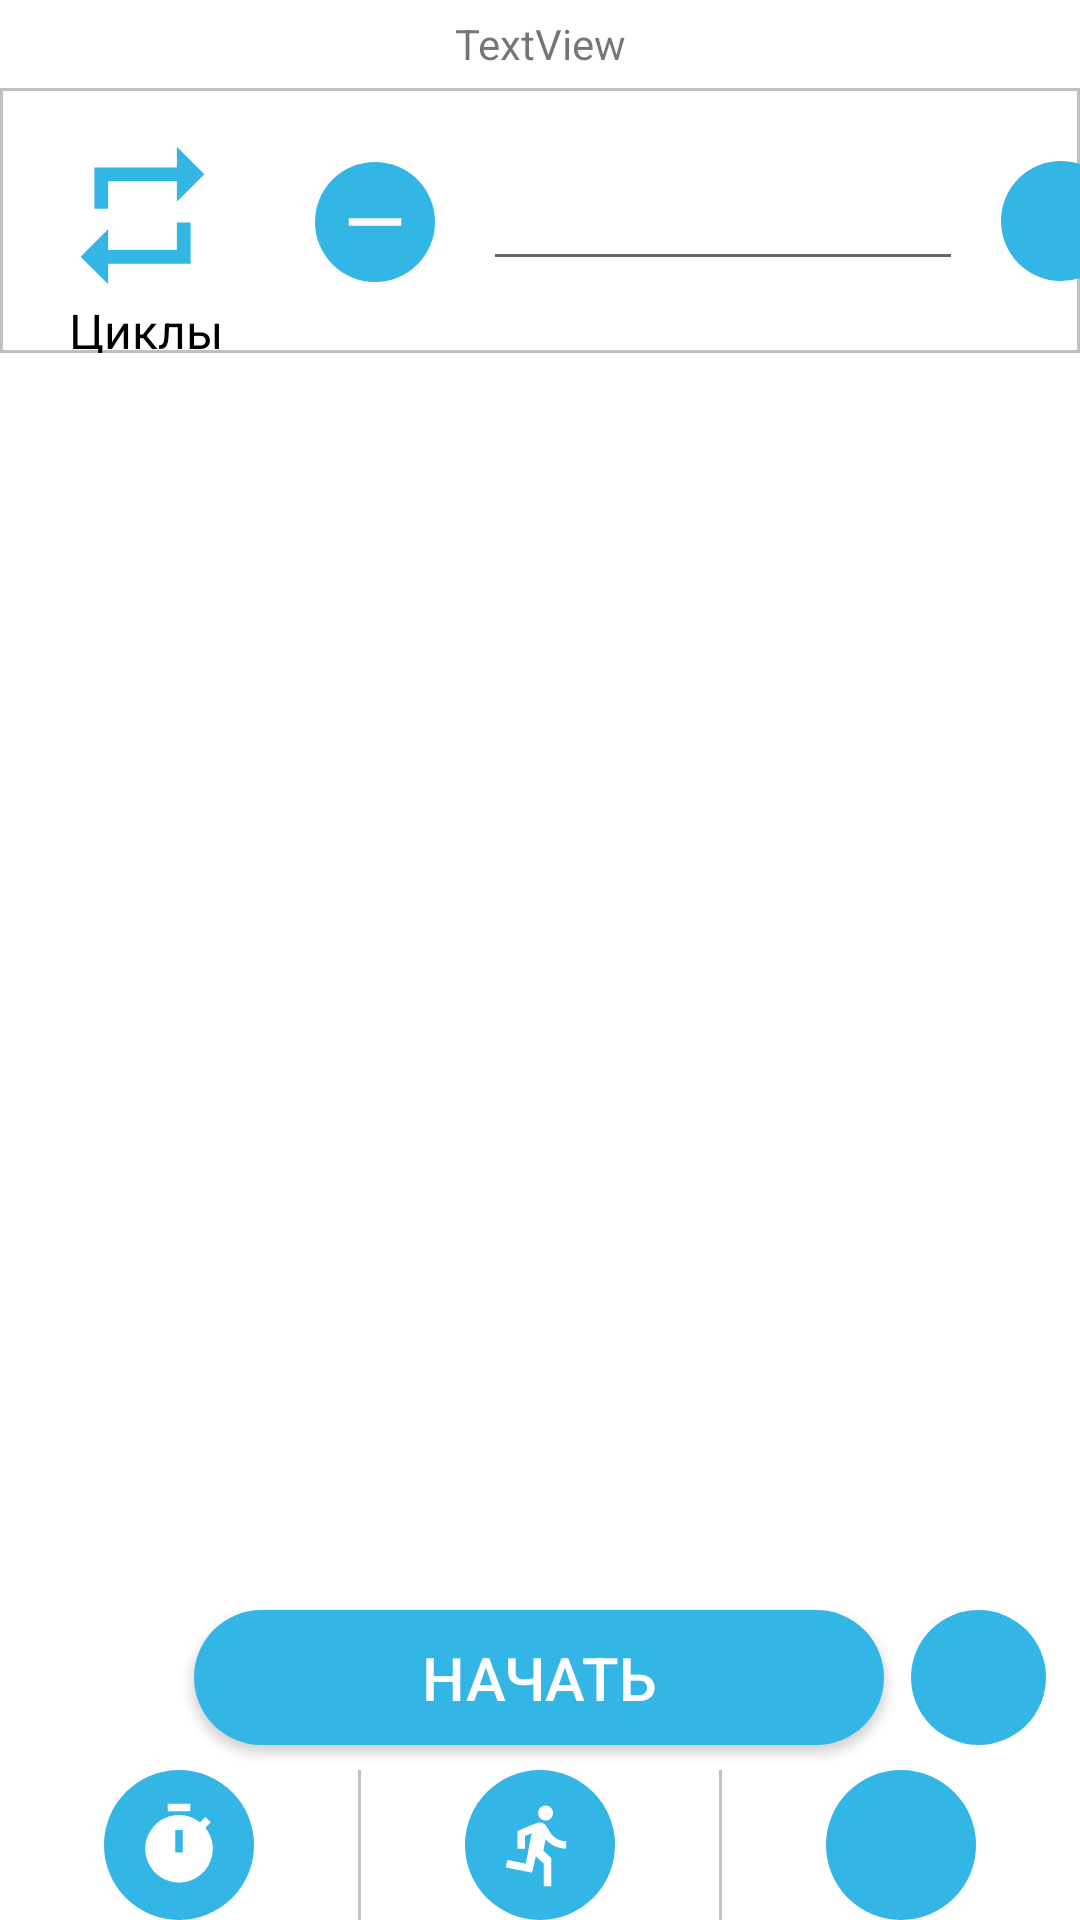

Screen size 1080x1920. Icon name, then its center in pixels as point (x, y):
directions run: point (540, 1845)
minus: point (375, 222)
repeat: point (142, 215)
timer: point (179, 1845)
